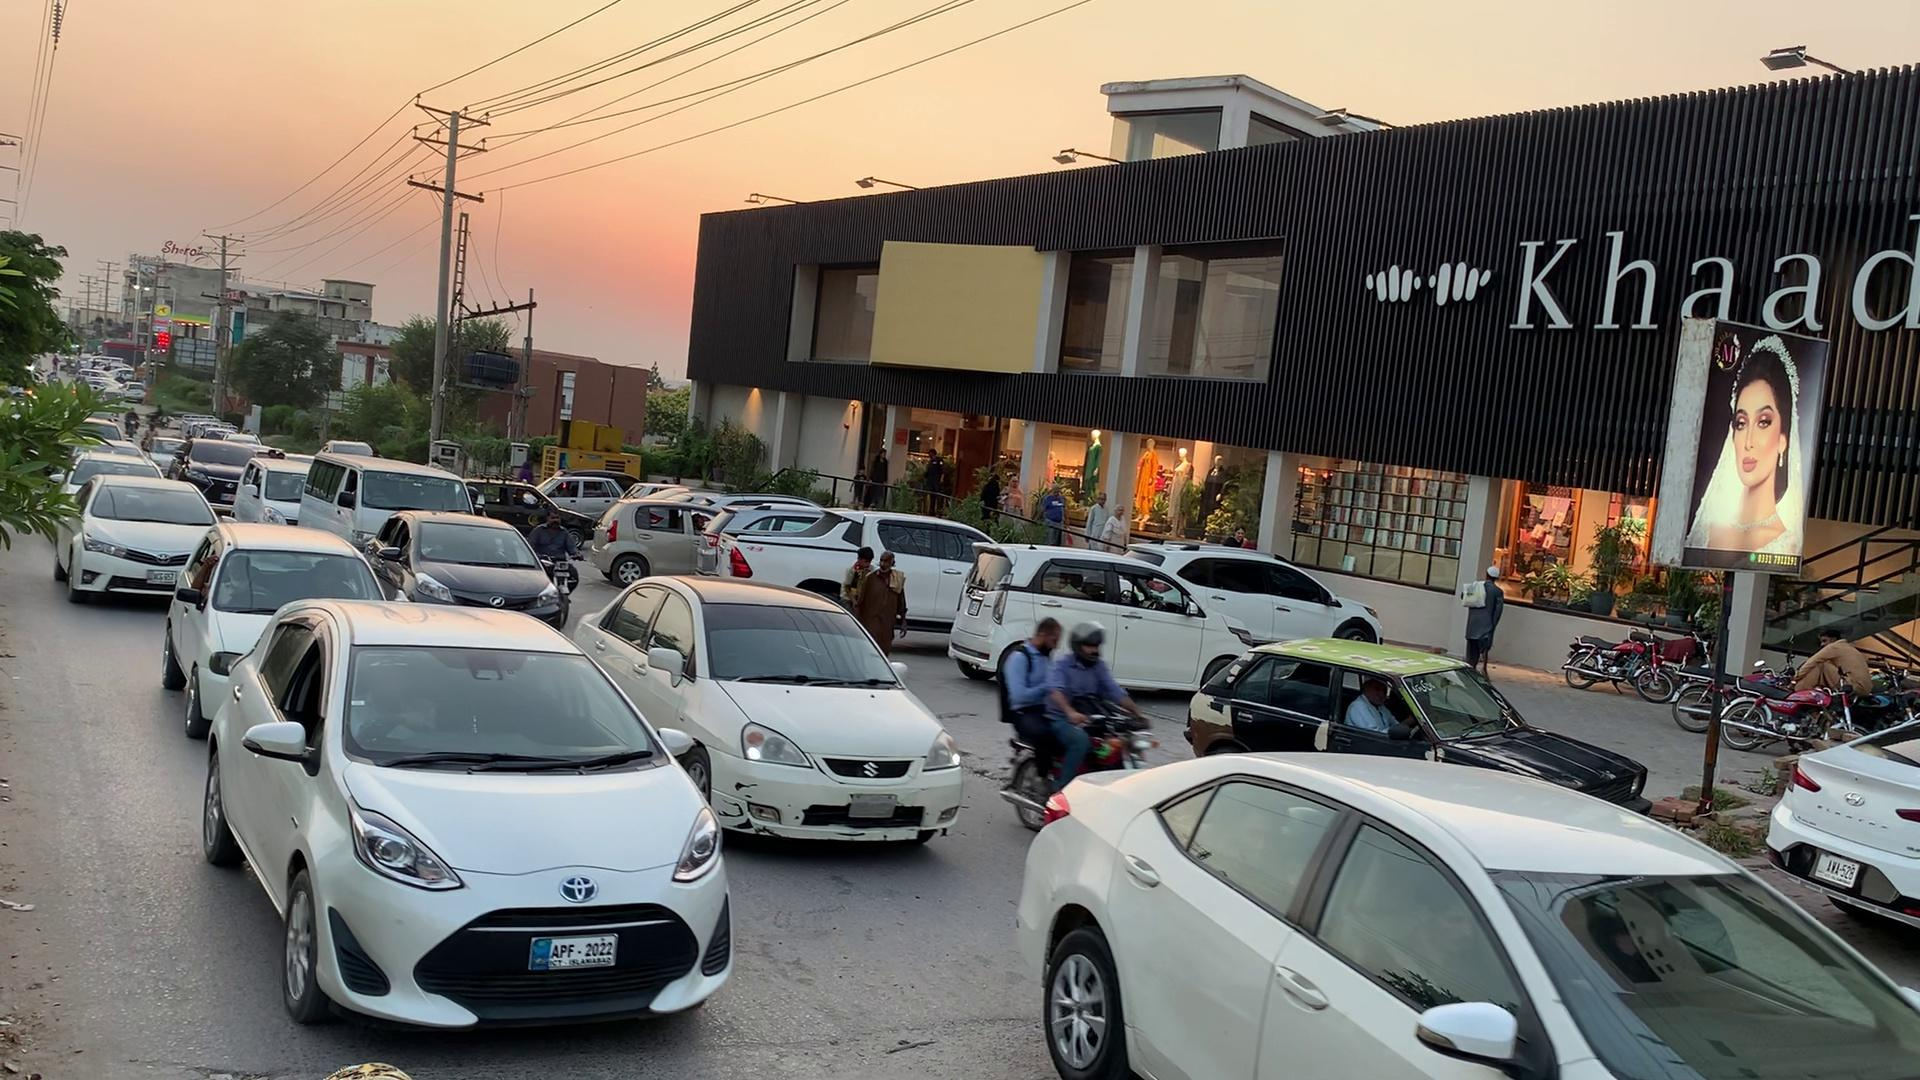windshield: (334, 633, 687, 790), (684, 587, 924, 700)
